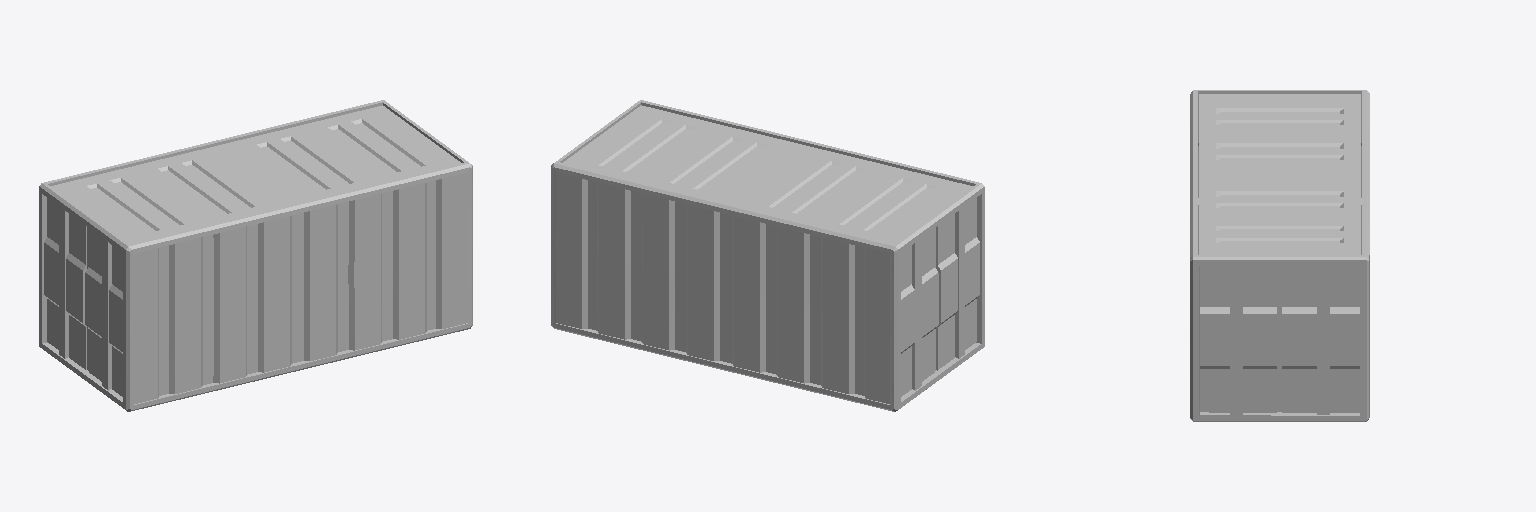
Rendered from Container_Green.obj.
3 renders of one model, left to right at view 1: azimuth 30°, elevation 25°; view 2: azimuth 150°, elevation 25°; view 3: azimuth 270°, elevation 25°, orthographic.
Parts seen in each view (by area): view 1: Container_Green_Cube.005; view 2: Container_Green_Cube.005; view 3: Container_Green_Cube.005.
Boxes of the visible parts, x1,y1,x2,y2 form: Container_Green_Cube.005: [39, 100, 472, 411]; Container_Green_Cube.005: [551, 100, 984, 411]; Container_Green_Cube.005: [1190, 90, 1369, 421].
Size of the model in its own units: 5.71 by 2.6 by 2.56.